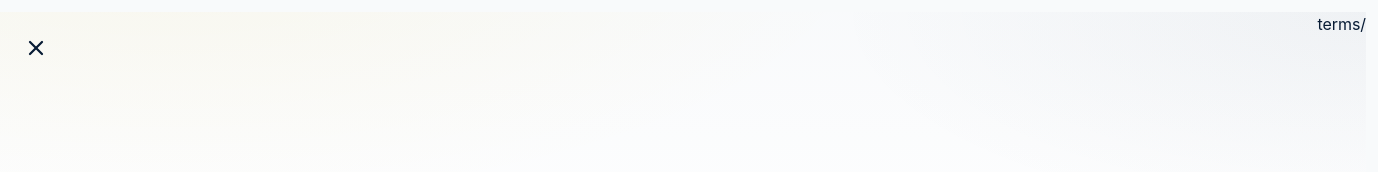
Test case: legal page close button › returns to the exact previous screen when one exists
Check: the text with test id "at" reads "/terms", box [1318,14,1366,34]
Click the button named "סגירה וחזרה לדף הקודם": coordinates (36, 48) [16,28,56,68]
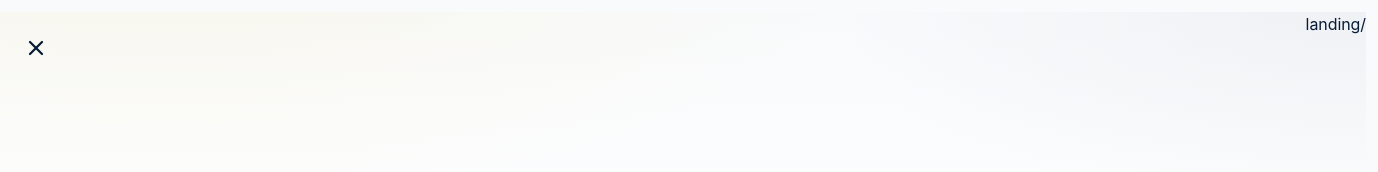
Check: the text with test id "at" reads "/landing", box [1306,14,1366,34]
